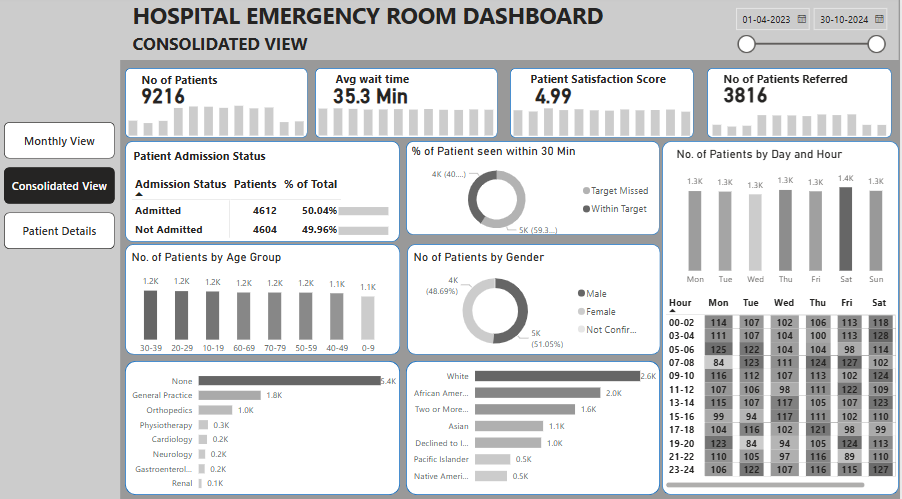

Layout of this report page (visuals, bound fields, positions):
{"tool":"powerbi","page":{"name":"Consolidated View","canvas":[1280,720],"ordinal":1},"visuals":[{"type":"shape","box":[176.4,0,1103.6,90.7],"z":0},{"type":"textbox","box":[188.1,0,687,60.5],"z":1000},{"type":"shape","box":[0,0,176.4,720.6],"z":2000},{"type":"textbox","box":[188.5,45.4,343,42.5],"z":3000},{"type":"shape","box":[182.8,102,259.4,99.2],"z":4000},{"type":"card","fields":{"Values":["Hospital ER_Data.No. of Patients"]},"box":[199.8,119.1,73.7,41.1],"z":5000},{"type":"slicer","fields":{"Values":["Date.Date"]},"box":[1036.1,7.1,233.9,75.1],"z":6000},{"type":"textbox","box":[201.3,102,129,38.3],"z":8000},{"type":"columnChart","fields":{"Y":["Hospital ER_Data.No. of Patients"],"Category":["Date.Month"]},"box":[182.8,121.9,259.4,82.2],"z":9000},{"type":"shape","box":[452.1,102,259.4,99.2],"z":10000},{"type":"shape","box":[728.5,102,260.8,99.2],"z":11000},{"type":"shape","box":[1007.7,102,262.2,99.2],"z":12000},{"type":"textbox","box":[476.2,100.6,144.6,32.6],"z":13000},{"type":"card","fields":{"Values":["Hospital ER_Data.Avg Wait Time"]},"box":[469.1,119.1,123.3,42.5],"z":14000},{"type":"columnChart","fields":{"Category":["Date.Month"],"Y":["Avg(Hospital ER_Data.Patient Waittime)"]},"box":[452.1,141.7,258,62.4],"z":15000},{"type":"textbox","box":[1026.1,100.6,238.1,32.6],"z":16000},{"type":"card","fields":{"Values":["Hospital ER_Data.Satisfaction Score"]},"box":[728.5,119.1,123.3,42.5],"z":17000},{"type":"columnChart","fields":{"Category":["Date.Month"],"Y":["Hospital ER_Data.Satisfaction Score"]},"box":[728.5,140.3,260.8,63.8],"z":18000},{"type":"textbox","box":[752.6,100.6,238.1,32.6],"z":19000},{"type":"shape","box":[182.8,205.5,389.8,143.1],"z":20000},{"type":"card","fields":{"Values":["Hospital ER_Data.No of patient referred"]},"box":[1000.6,117.6,123.3,42.5],"z":21000},{"type":"columnChart","fields":{"Category":["Date.Month"],"Y":["Hospital ER_Data.No of patient referred"]},"box":[1010.6,140.3,256.5,63.8],"z":22000},{"type":"pivotTable","title":"Patient  Admission Status","fields":{"Rows":["Hospital ER_Data.Admission Status"],"Values":["Hospital ER_Data.No. of Patients","Divide(Hospital ER_Data.No. of Patients, ScopedEval(Hospital ER_Data.No. of Patients, []))"]},"box":[187.1,246.6,323.1,104.9],"z":23000},{"type":"clusteredBarChart","fields":{"Y":["Hospital ER_Data.No. of Patients"],"Category":["Hospital ER_Data.Admission Status"]},"box":[480.5,272.1,102,87.9],"z":24000},{"type":"textbox","box":[189.9,209.8,316.1,32.6],"z":25000},{"type":"shape","box":[581.1,205.5,360,133.2],"z":26000},{"type":"shape","box":[182.8,351.5,389.8,157.3],"z":27000},{"type":"shape","box":[182.8,517.3,389.8,189.9],"z":28000},{"type":"clusteredColumnChart","fields":{"Category":["Hospital ER_Data.Age Group"],"Y":["Hospital ER_Data.No. of Patients"]},"box":[187.1,360,372.8,157.3],"z":29000},{"type":"shape","box":[943.9,205.5,335.9,501.7],"z":30000},{"type":"pivotTable","fields":{"Rows":["Hospital ER_Data.Waittime Interval"],"Columns":["Date.Week Day"],"Values":["Hospital ER_Data.No. of Patients"]},"box":[943.9,419.5,335.9,283.5],"z":31000},{"type":"clusteredBarChart","fields":{"Category":["Hospital ER_Data.Department Referral"],"Y":["Hospital ER_Data.No. of Patients"]},"box":[174.3,517.3,398.3,194.2],"z":32000},{"type":"donutChart","title":"% of Patient seen within 30 Min","fields":{"Y":["Hospital ER_Data.No. of Patients"],"Category":["Hospital ER_Data.Waittime status"]},"box":[583.9,209.8,355.7,136.1],"z":33000},{"type":"shape","box":[582.5,351.5,360,157.3],"z":34000},{"type":"donutChart","title":"No of Patients by Gender","fields":{"Y":["Hospital ER_Data.No. of Patients"],"Category":["Hospital ER_Data.Patient Gender"]},"box":[586.8,360,341.6,151.7],"z":35000},{"type":"shape","box":[581.1,517.3,360,189.9],"z":36000},{"type":"clusteredBarChart","fields":{"Y":["Hospital ER_Data.No. of Patients"],"Category":["Hospital ER_Data.Patient Race"]},"box":[574,508.8,367.1,194.2],"z":37000},{"type":"columnChart","title":"No. of Patients by Day and Hour","fields":{"Category":["Date.Week Day"],"Y":["Hospital ER_Data.No. of Patients"]},"box":[959.5,214,320.3,205.5],"z":38000},{"type":"pageNavigator","box":[11.3,178.6,157.3,181.4],"z":38001}]}

Visuals, with their boxes on the page's 1280x720 design canvas (x1, y1, x2, y2). These are canvas units, not pixel positions in the 902x499 screenshot, which may show the page scaled, cropped or inside an application window:
shape: [176, 0, 1280, 91]
textbox: [188, 0, 875, 60]
shape: [0, 0, 176, 721]
textbox: [188, 45, 532, 88]
shape: [183, 102, 442, 201]
card - Hospital ER_Data.No. of Patients: [200, 119, 274, 160]
slicer - Date.Date: [1036, 7, 1270, 82]
textbox: [201, 102, 330, 140]
columnChart - Hospital ER_Data.No. of Patients x Date.Month: [183, 122, 442, 204]
shape: [452, 102, 712, 201]
shape: [728, 102, 989, 201]
shape: [1008, 102, 1270, 201]
textbox: [476, 101, 621, 133]
card - Hospital ER_Data.Avg Wait Time: [469, 119, 592, 162]
columnChart - Date.Month x Avg(Hospital ER_Data.Patient Waittime): [452, 142, 710, 204]
textbox: [1026, 101, 1264, 133]
card - Hospital ER_Data.Satisfaction Score: [728, 119, 852, 162]
columnChart - Date.Month x Hospital ER_Data.Satisfaction Score: [728, 140, 989, 204]
textbox: [753, 101, 991, 133]
shape: [183, 206, 573, 349]
card - Hospital ER_Data.No of patient referred: [1001, 118, 1124, 160]
columnChart - Date.Month x Hospital ER_Data.No of patient referred: [1011, 140, 1267, 204]
"Patient  Admission Status" pivotTable: [187, 247, 510, 352]
clusteredBarChart - Hospital ER_Data.No. of Patients x Hospital ER_Data.Admission Status: [480, 272, 582, 360]
textbox: [190, 210, 506, 242]
shape: [581, 206, 941, 339]
shape: [183, 352, 573, 509]
shape: [183, 517, 573, 707]
clusteredColumnChart - Hospital ER_Data.Age Group x Hospital ER_Data.No. of Patients: [187, 360, 560, 517]
shape: [944, 206, 1280, 707]
pivotTable - Hospital ER_Data.Waittime Interval x Date.Week Day: [944, 420, 1280, 703]
clusteredBarChart - Hospital ER_Data.Department Referral x Hospital ER_Data.No. of Patients: [174, 517, 573, 712]
"% of Patient seen within 30 Min" donutChart: [584, 210, 940, 346]
shape: [582, 352, 942, 509]
"No of Patients by Gender" donutChart: [587, 360, 928, 512]
shape: [581, 517, 941, 707]
clusteredBarChart - Hospital ER_Data.No. of Patients x Hospital ER_Data.Patient Race: [574, 509, 941, 703]
"No. of Patients by Day and Hour" columnChart: [960, 214, 1280, 420]
pageNavigator: [11, 179, 169, 360]
